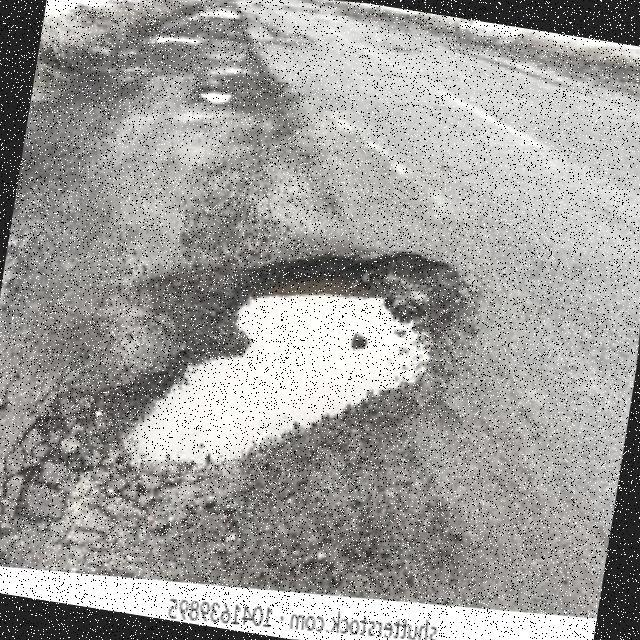Pothole: (2, 252, 462, 535)
